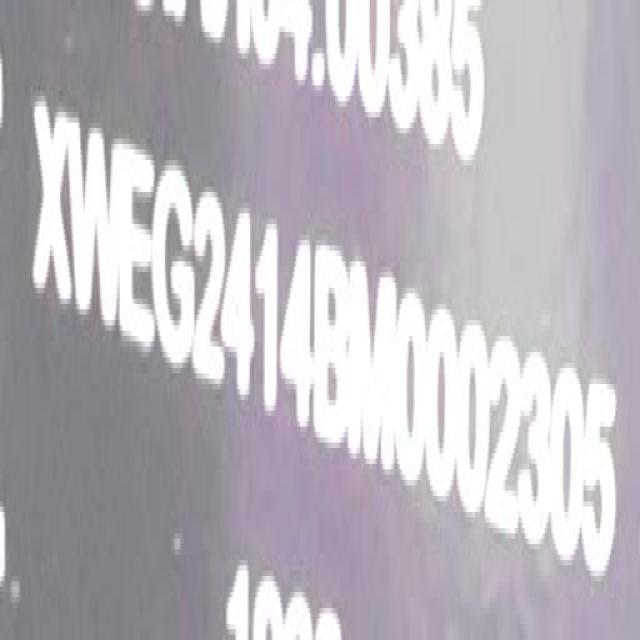0: (392, 285, 429, 496), (423, 301, 459, 509), (551, 356, 585, 567), (456, 315, 488, 519)
1: (255, 214, 278, 422)
2: (484, 330, 522, 546), (192, 189, 227, 390)
3: (516, 346, 552, 556)
4: (280, 230, 318, 438), (222, 204, 256, 406)
5: (582, 368, 622, 583)
B: (314, 238, 354, 454)
E: (116, 138, 158, 358)
G: (153, 153, 195, 376)
M: (352, 259, 400, 478)
W: (67, 112, 116, 348)
X: (27, 90, 73, 322)
